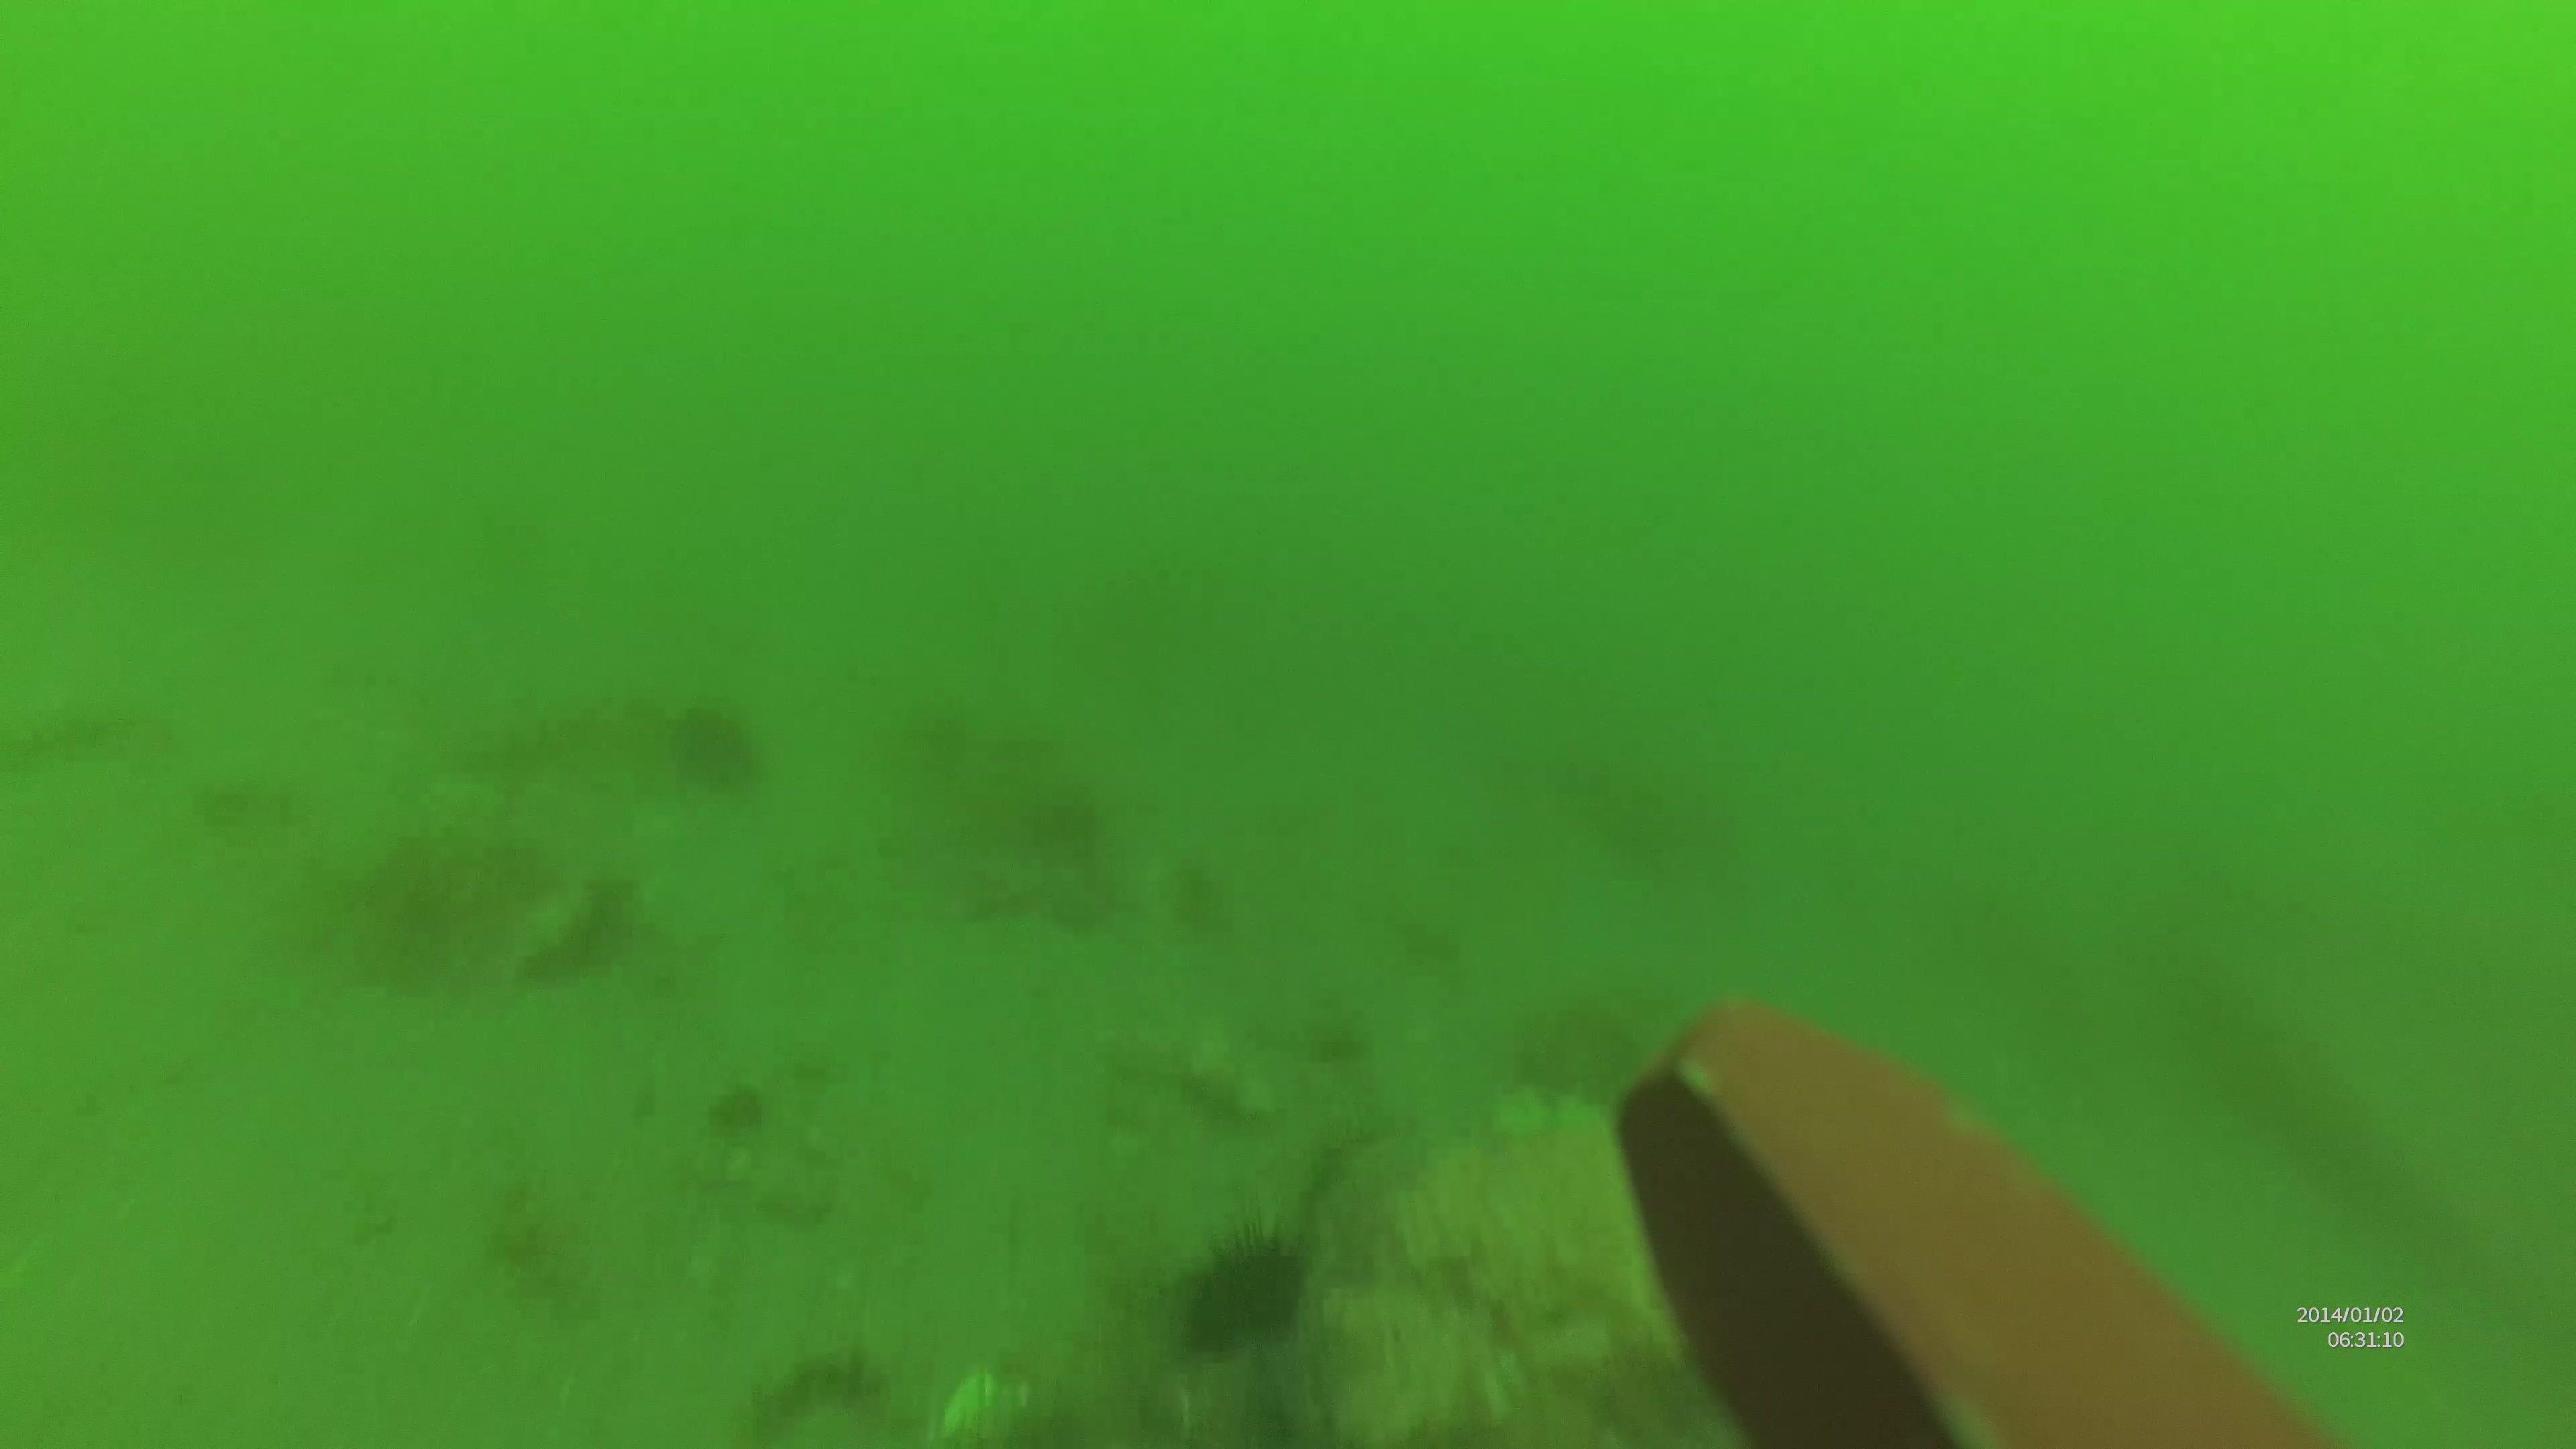echinus: (1169, 1205, 1316, 1357)
